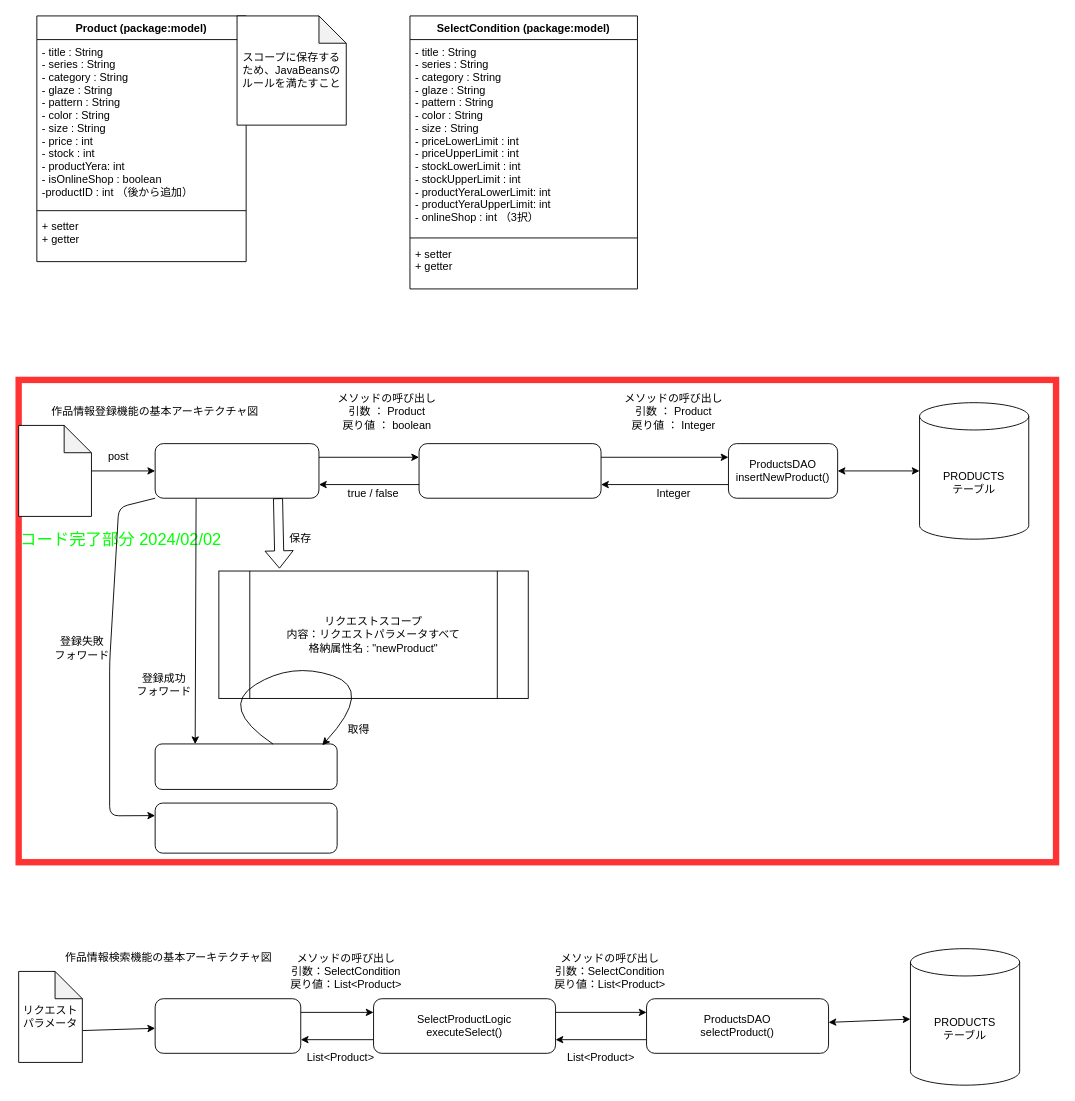
Image size: 1075x1101. Some labels were removed from this diagram. The centre of each missing label's shape, as x and y in pixels:
doneInsertNewProduct.jsp: the point at 245,766
failed.jsp: the point at 245,827
InsertNewProductLogic executeInsert(): the point at 509,470
InsertNewProductServlet doPost(): the point at 236,470
selectProductServlet doPost(): the point at 227,1025
リクエスト パラメータ: the point at 54,470
